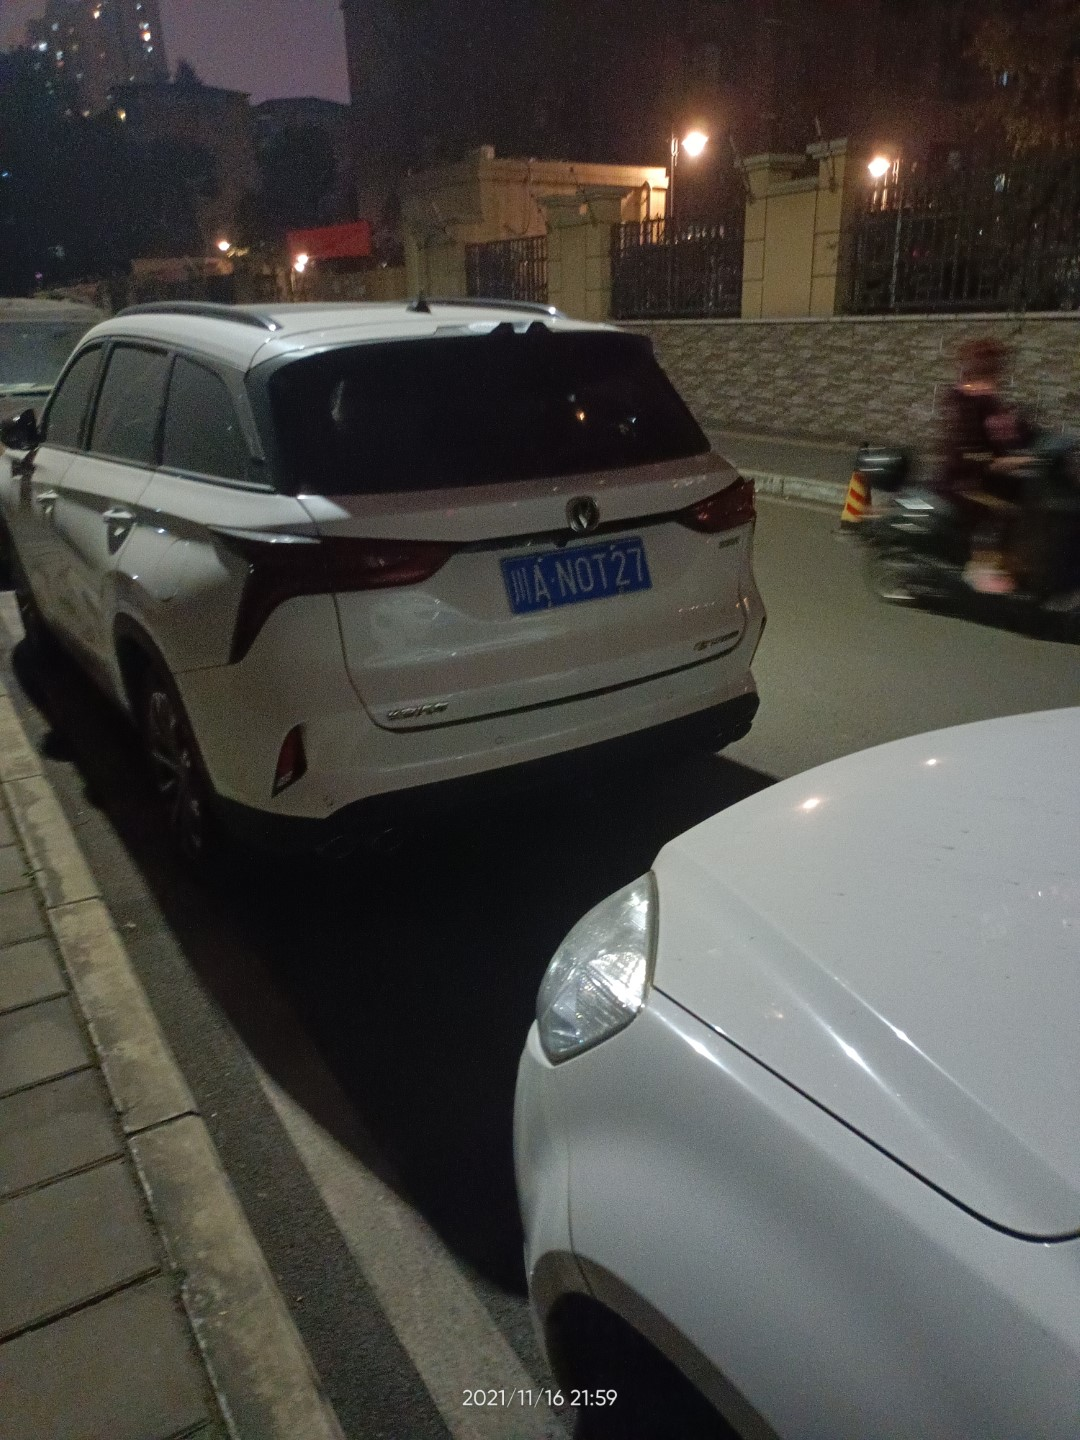plate: (496, 536, 651, 616)
